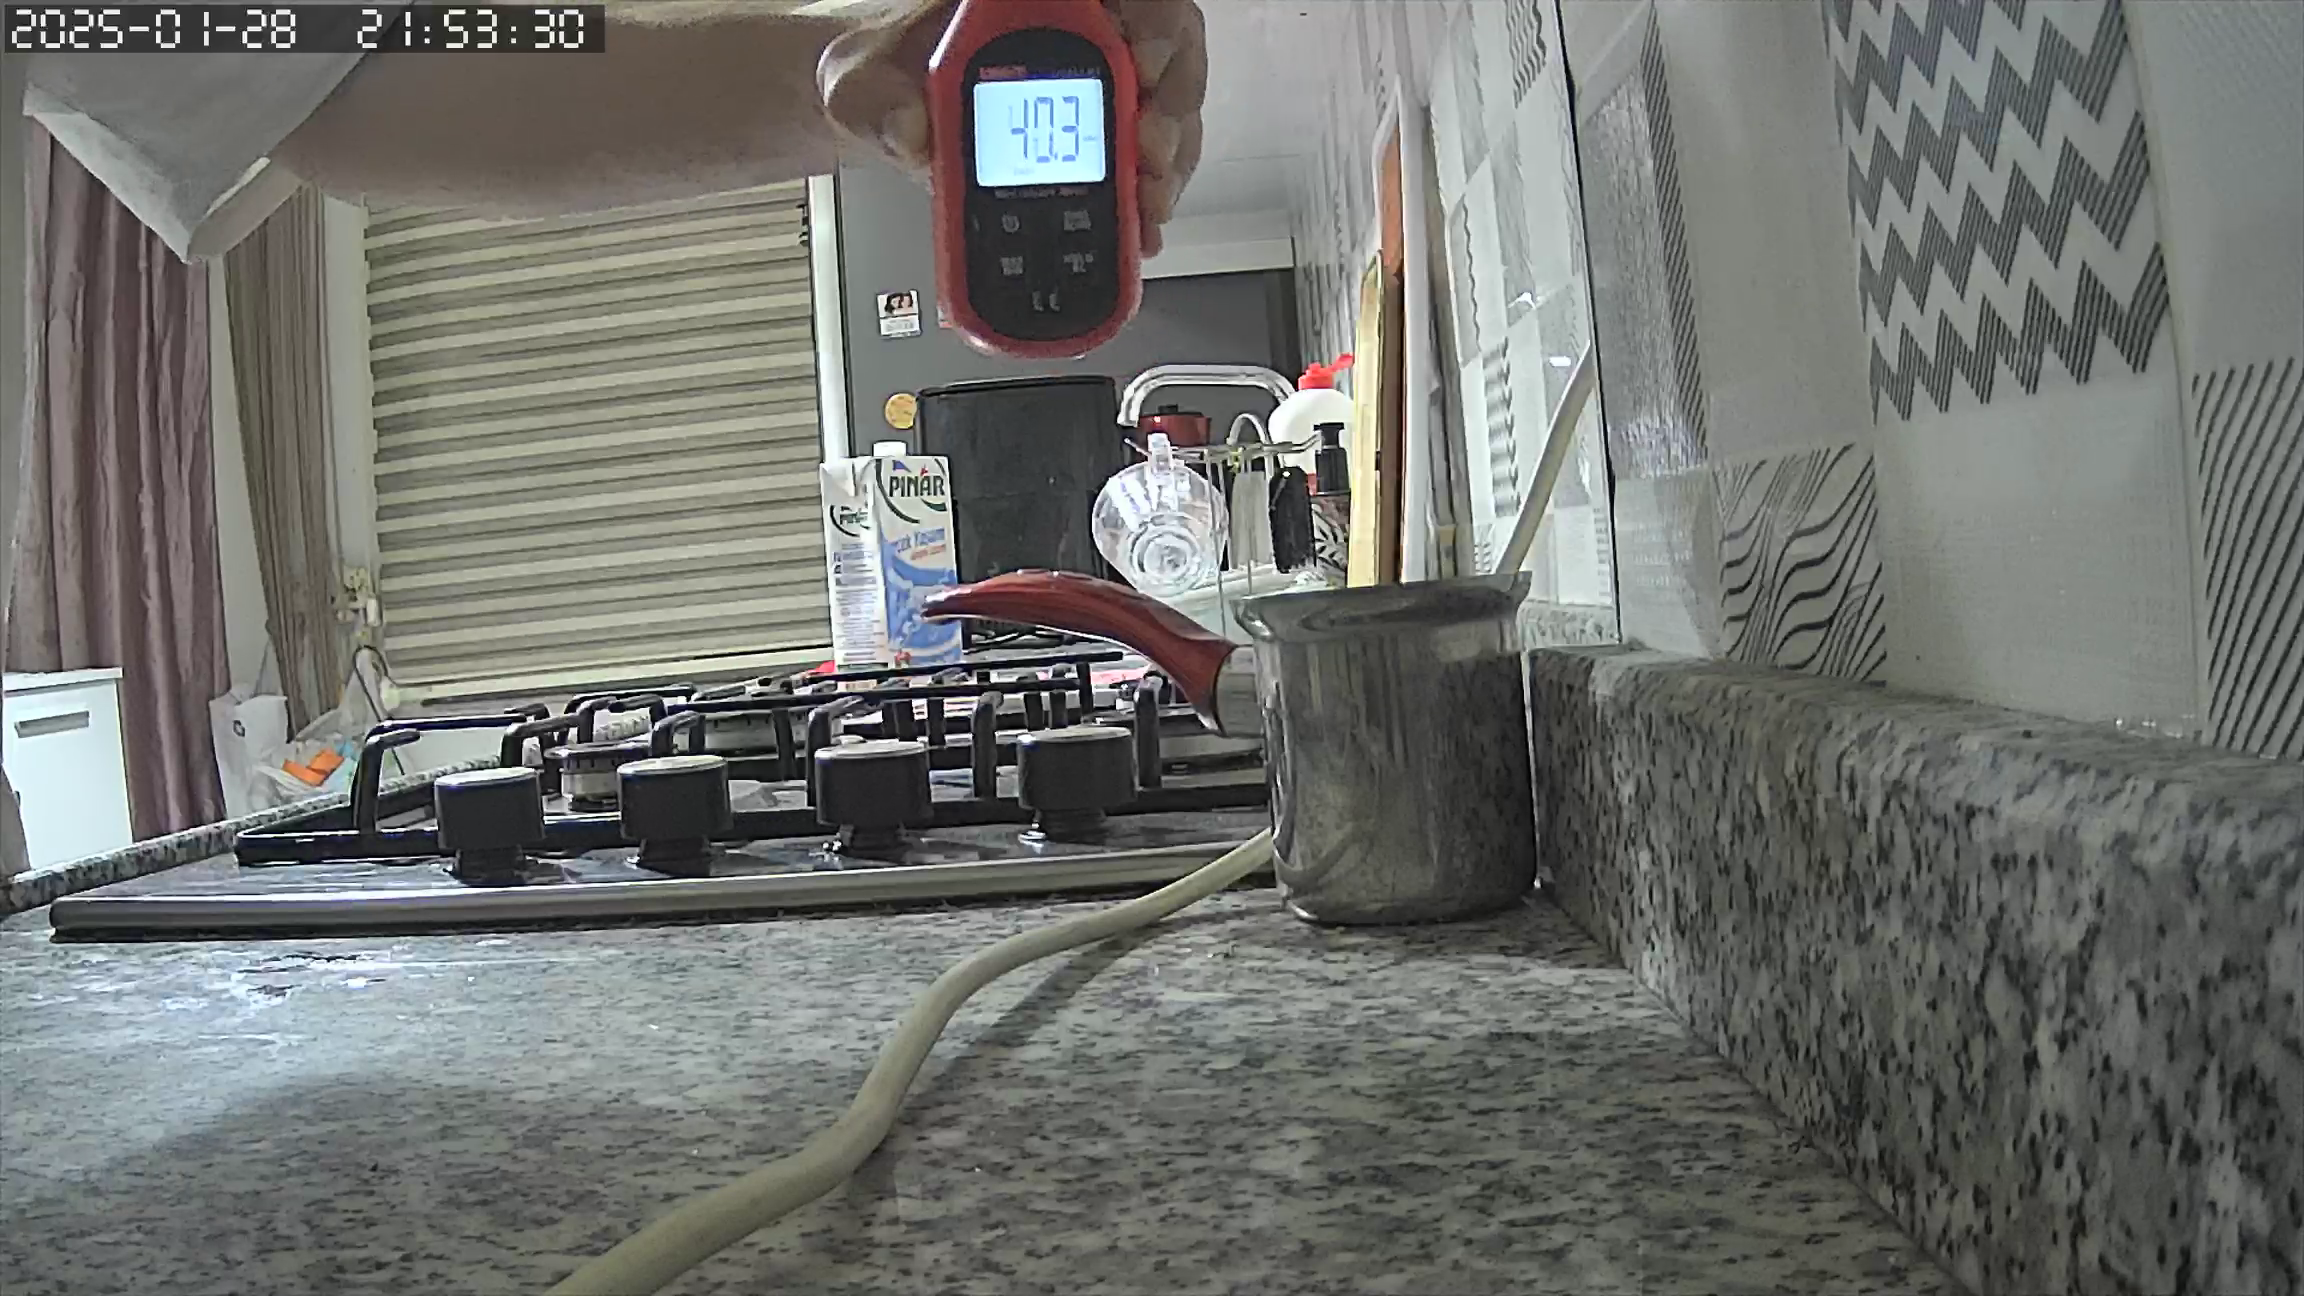screen: (968, 76, 1108, 185)
